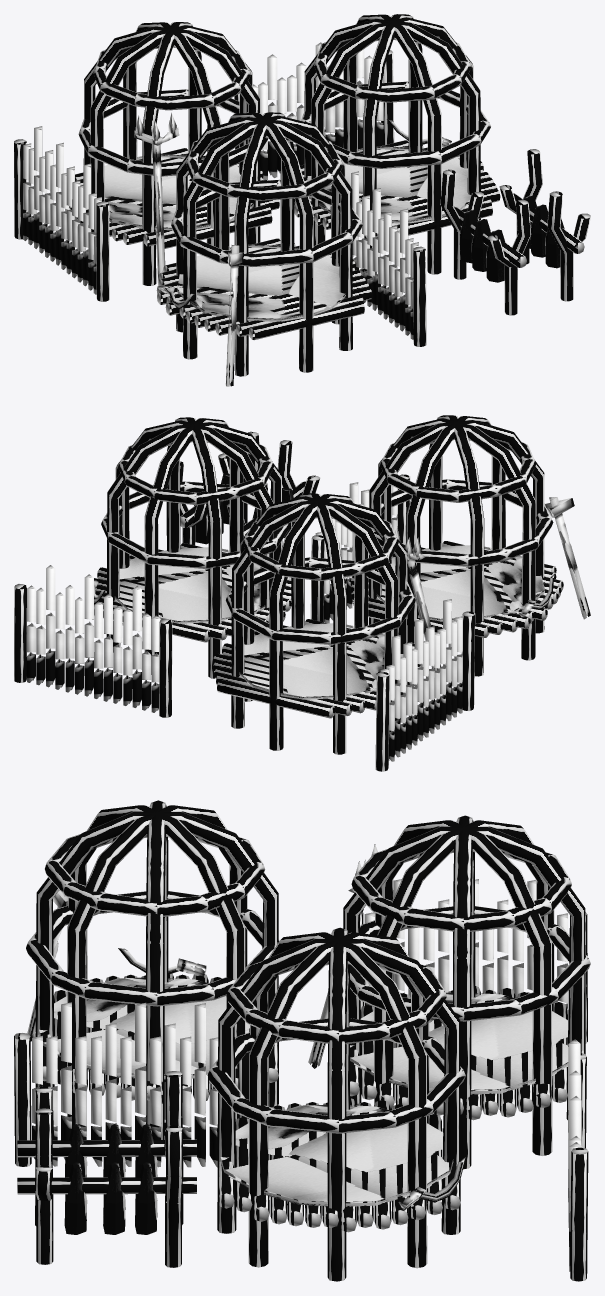
Rendered from farmstead.dae.
3 renders of one model, top to bottom at view 1: azimuth 30°, elevation 25°; view 2: azimuth 150°, elevation 25°; view 3: azimuth 270°, elevation 25°, orthographic. The views are drawn at different scales.
Parts seen in each view (by area): view 1: farmstead; view 2: farmstead; view 3: farmstead.
Boxes of the visible parts, x1=… form: farmstead: x1=14, y1=14, x2=590, y2=386; farmstead: x1=14, y1=415, x2=590, y2=771; farmstead: x1=14, y1=800, x2=590, y2=1281.
Size of the model in its own units: 11.81 by 11.69 by 6.51.
